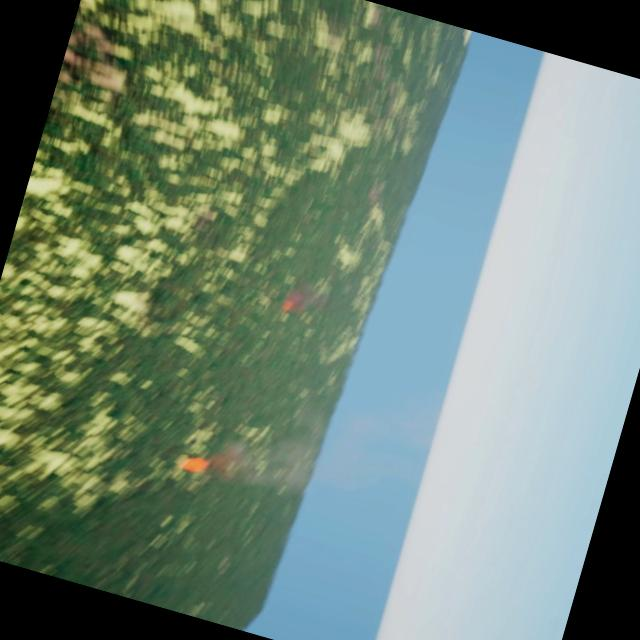fire: (172, 452, 210, 477)
smoke: (208, 350, 454, 540), (274, 274, 330, 322)
